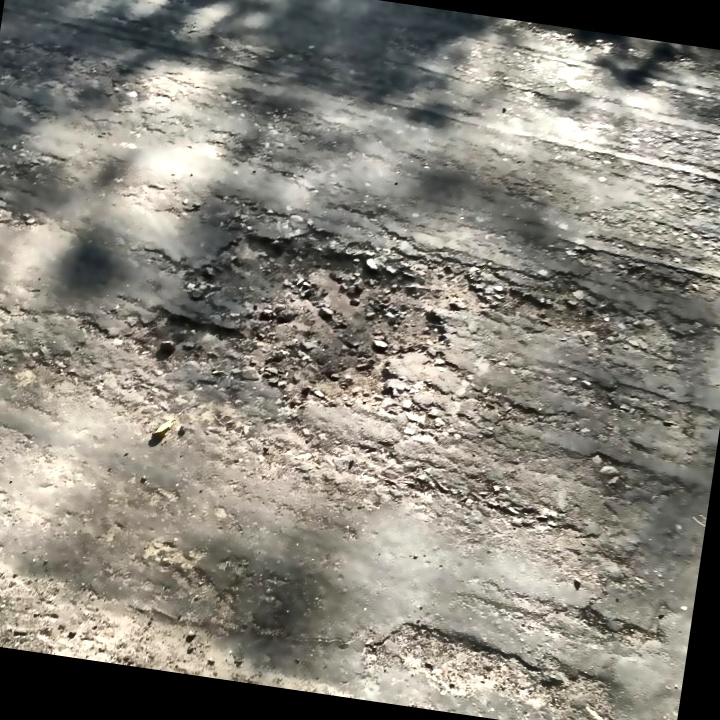pothole: (157, 213, 466, 421), (374, 612, 561, 711)
